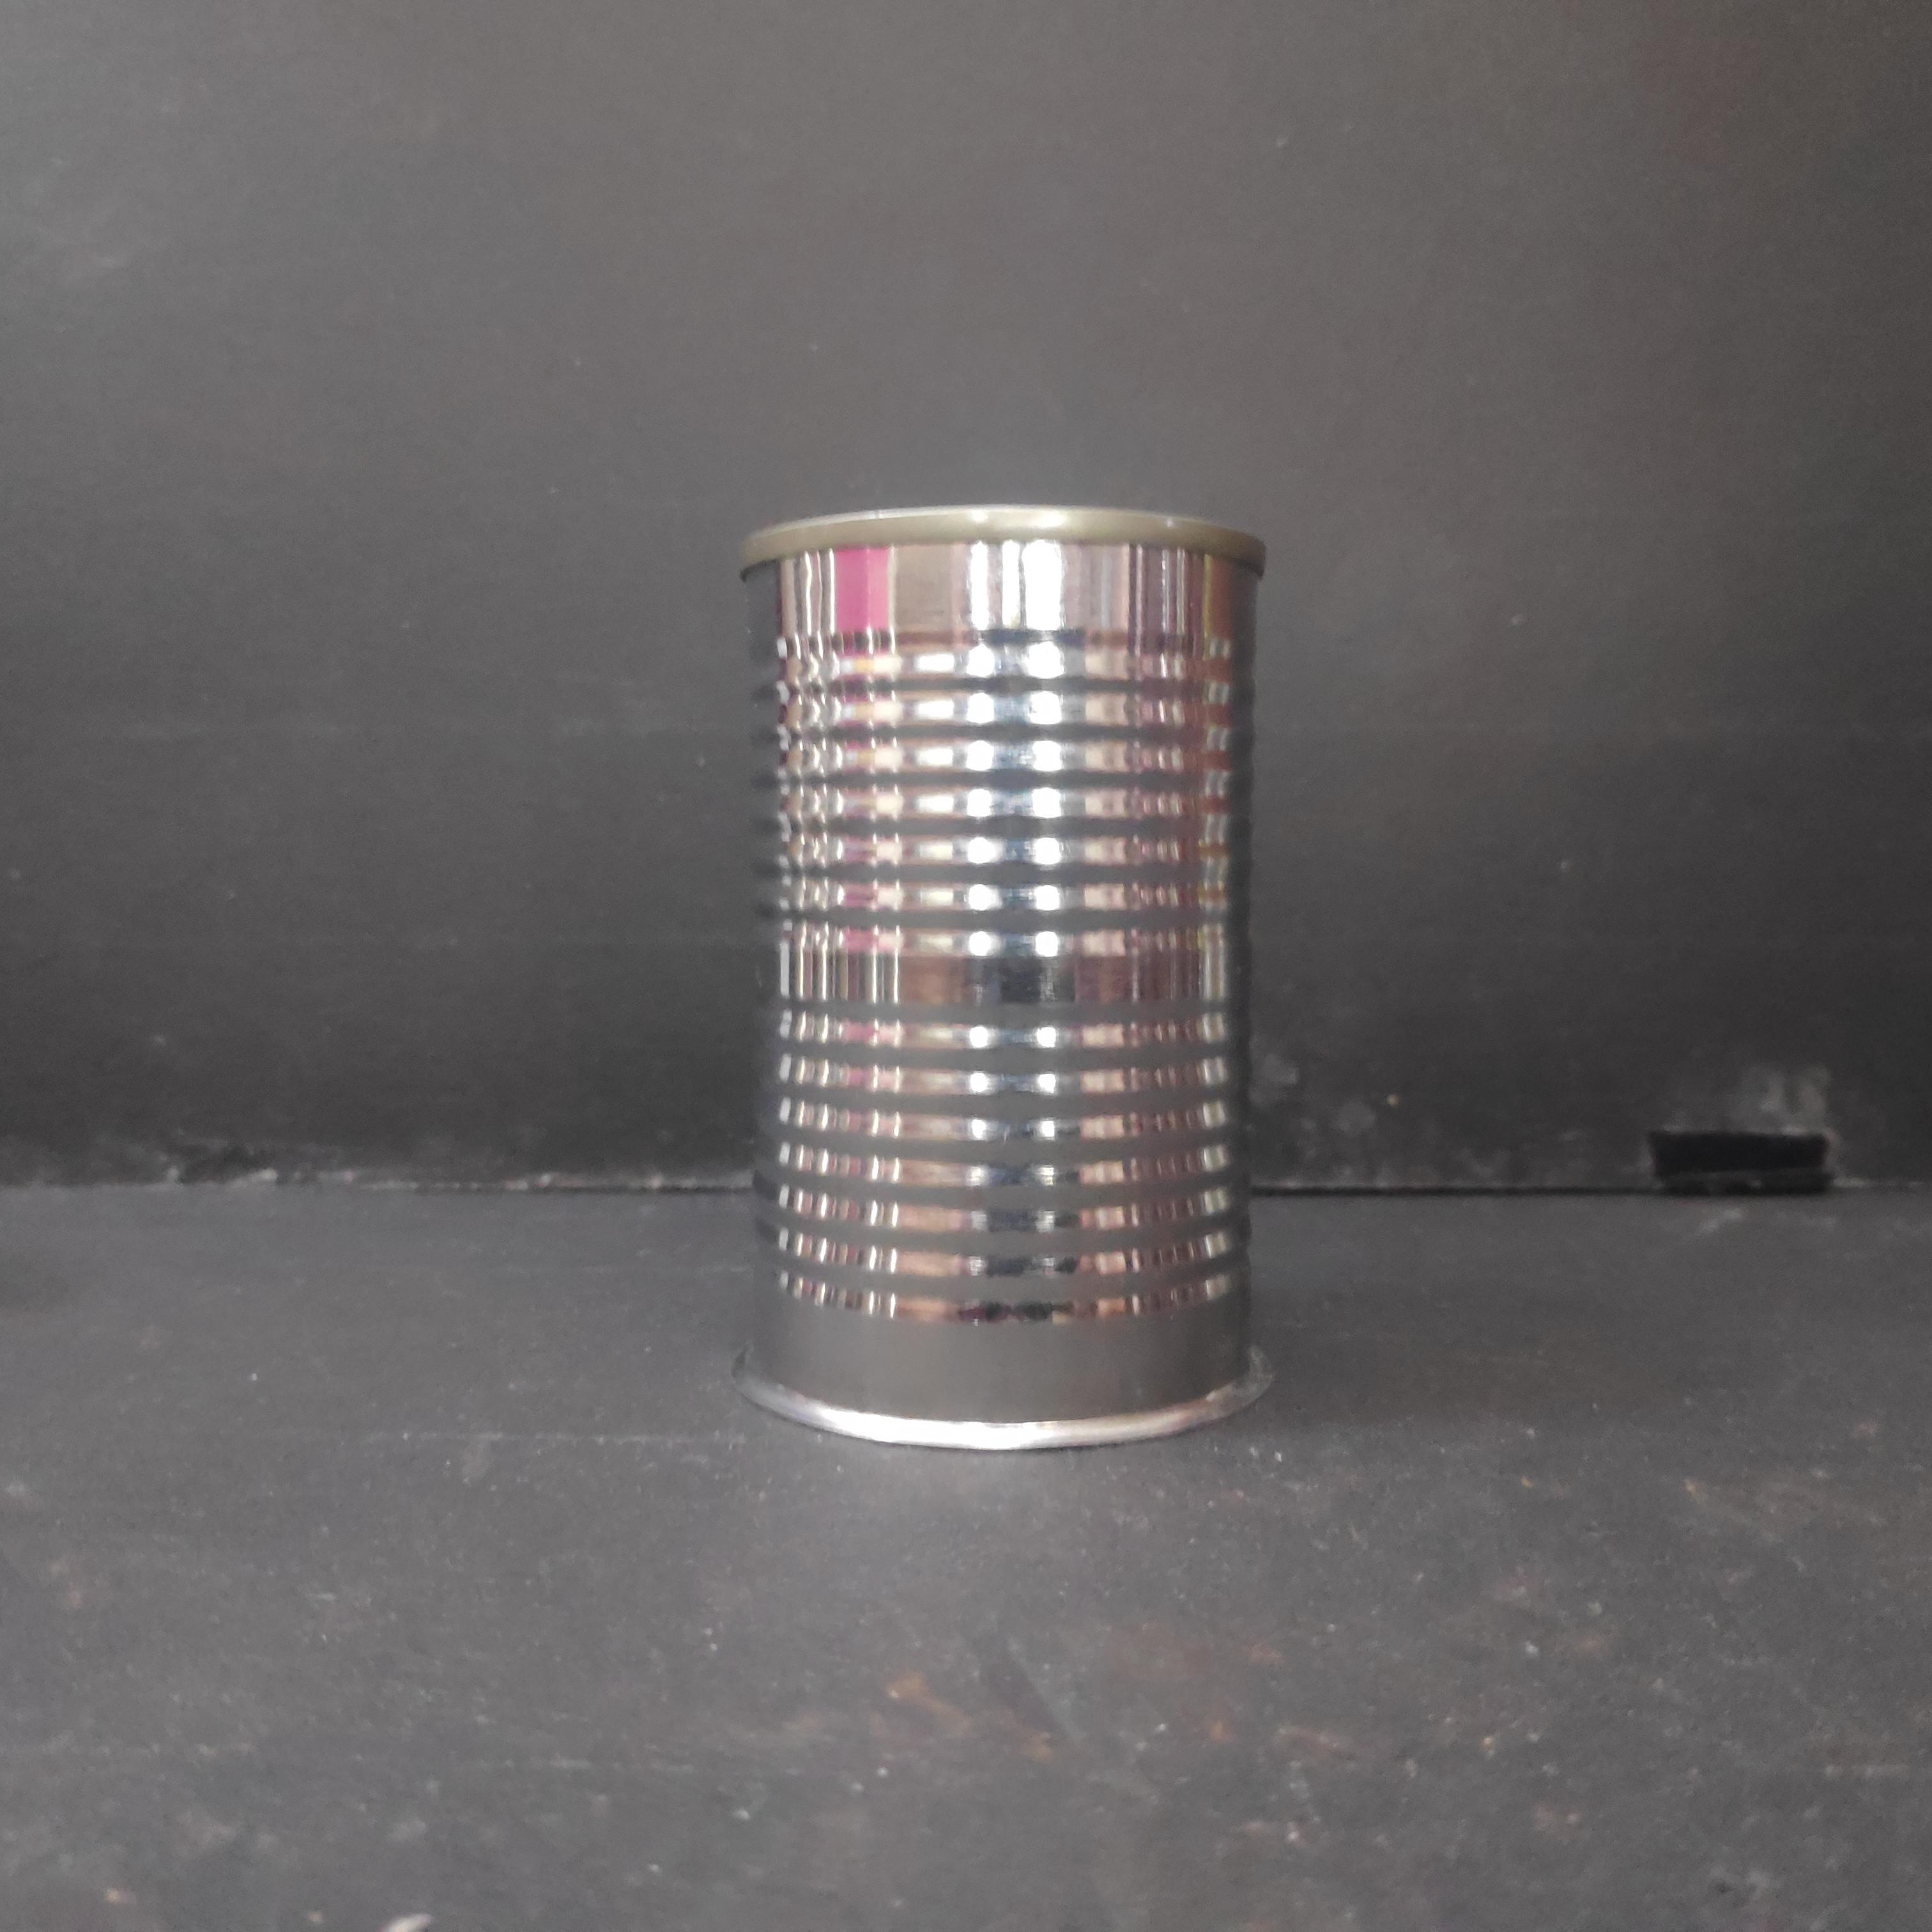No defect: (724, 504, 1279, 1454)
